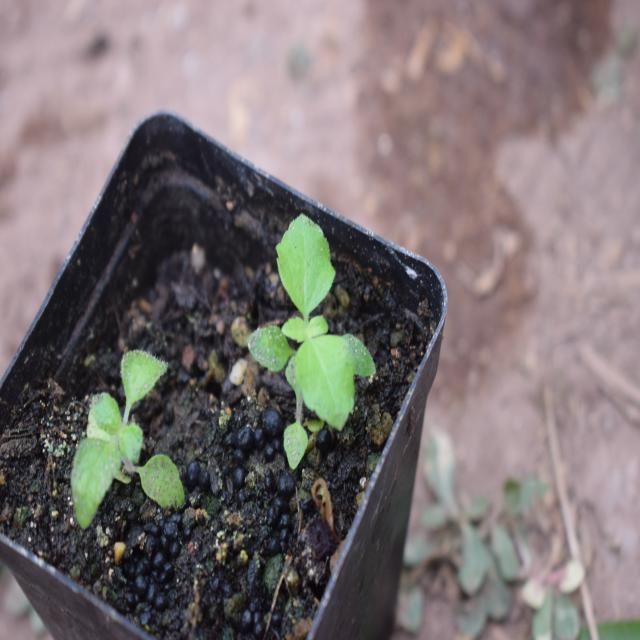billygoat_weed: (63, 341, 195, 527), (250, 223, 360, 437)
